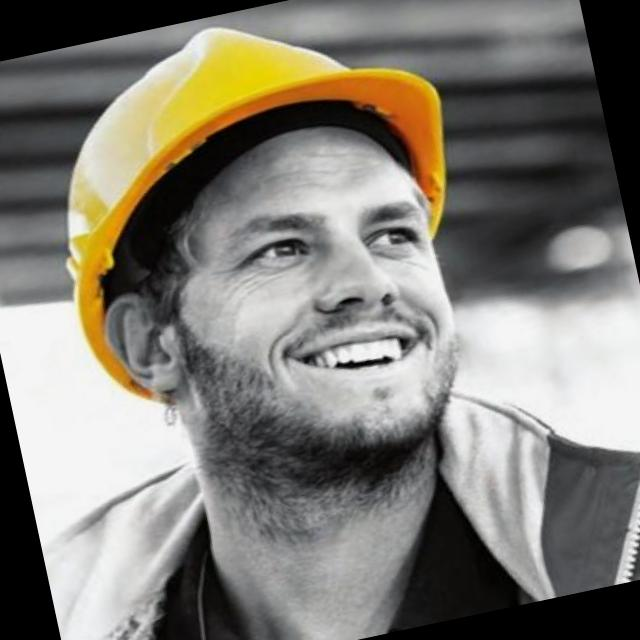helmet: (16, 0, 491, 402)
